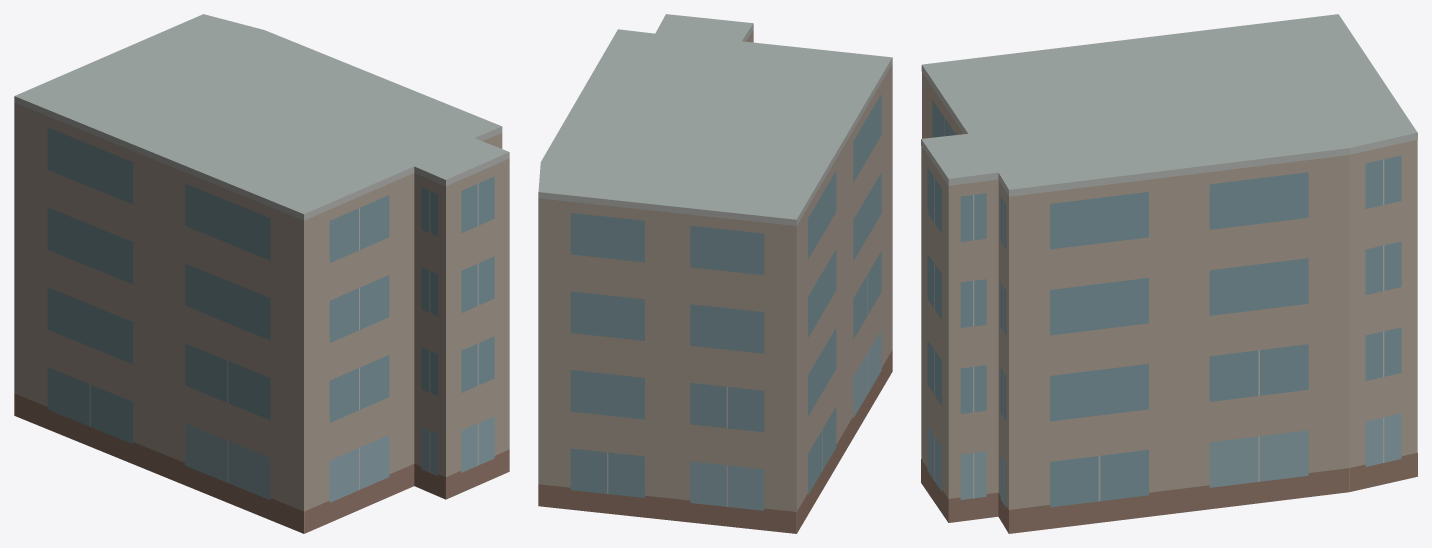
The model's file is survey-upis-32610126.glb.
3 views of the same model, side by side, from view 1: azimuth 30°, elevation 25°; view 2: azimuth 150°, elevation 25°; view 3: azimuth 270°, elevation 25° (orthographic). The views are drawn at different scales.
Parts seen in each view (by area): view 1: survey-upis-32610126.tmp; view 2: survey-upis-32610126.tmp; view 3: survey-upis-32610126.tmp.
Part boxes in pixels (<box>): survey-upis-32610126.tmp: <box>14,14,509,533</box>; survey-upis-32610126.tmp: <box>538,14,892,533</box>; survey-upis-32610126.tmp: <box>921,14,1417,533</box>.
Bounding box in the file's own units: 13.39 × 12.2 × 15.97.
